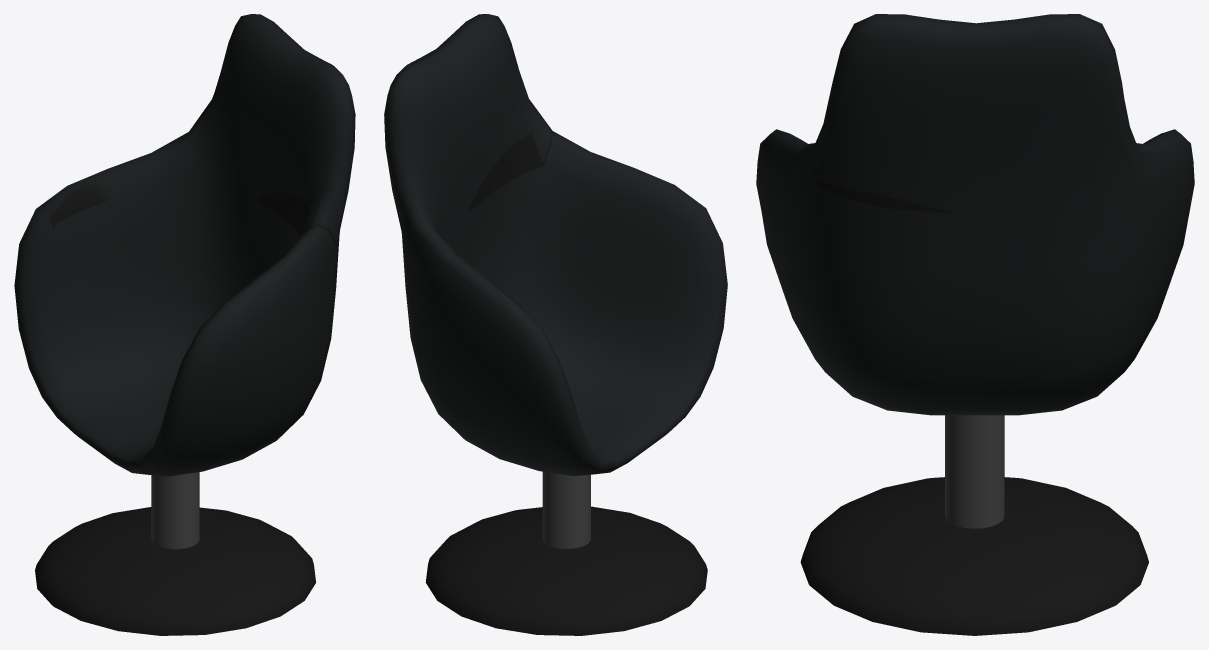
Rendered from Chair.fbx.
3 views of the same model, side by side, from view 1: azimuth 30°, elevation 25°; view 2: azimuth 150°, elevation 25°; view 3: azimuth 270°, elevation 25° (orthographic). The views are drawn at different scales.
Visible parts, largest first — view 1: pCube4; view 2: pCube4; view 3: pCube4.
Boxes of the visible parts, x1=… form: pCube4: x1=14, y1=14, x2=355, y2=635; pCube4: x1=384, y1=14, x2=727, y2=635; pCube4: x1=756, y1=14, x2=1194, y2=635.
Size of the model in its own units: 1.72 by 3.19 by 2.04.
1 material, 1 textured.
